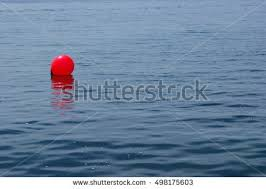buoy: (51, 55, 75, 76)
